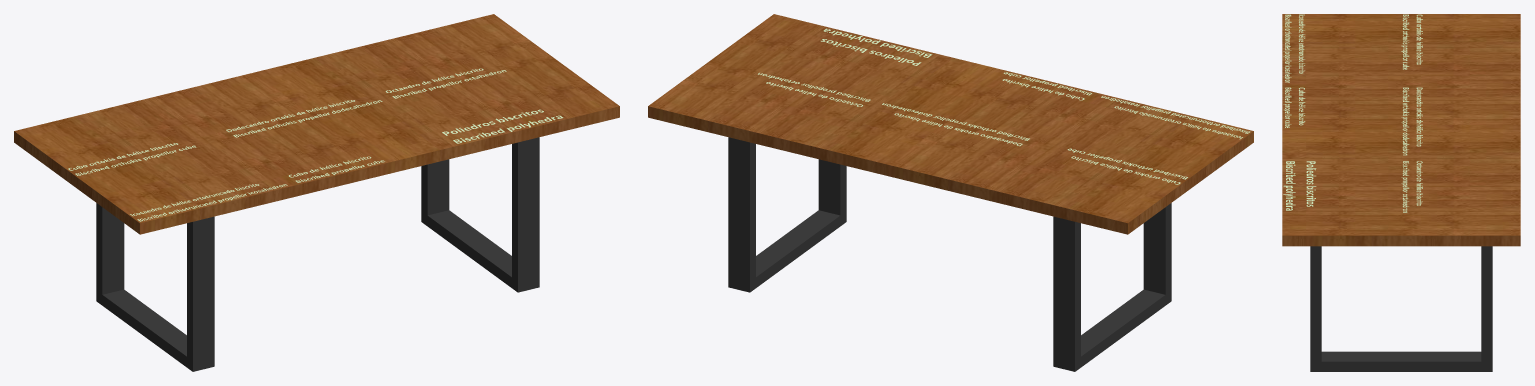
The model's file is biscribed3.glb.
The picture shows the model from 3 angles, left to right: view 1: azimuth 30°, elevation 25°; view 2: azimuth 150°, elevation 25°; view 3: azimuth 270°, elevation 25°; orthographic projection. The views are drawn at different scales.
Visible parts, largest first — view 1: object 1, Composant#1 (×2), Dodecaedro ortok, Icosaedro de hél, Poliedros biscri, Cubo ortokis de, Octaedro de héli; view 2: object 1, Composant#1 (×2), Icosaedro de hél, Dodecaedro ortok, Poliedros biscri, Cubo ortokis de, Octaedro de héli; view 3: object 1, Composant#1, Poliedros biscri, Icosaedro de hél, Dodecaedro ortok, Cubo ortokis de, Octaedro de héli, Cubo de hélice b.
Boxes of the visible parts, x1,y1,x2,y2 form: object 1: [14, 14, 619, 234]; Composant#1 (×2): [96, 137, 539, 371]; Dodecaedro ortok: [226, 100, 382, 137]; Icosaedro de hél: [130, 184, 287, 221]; Poliedros biscri: [442, 109, 563, 143]; Cubo ortokis de: [68, 143, 196, 175]; Octaedro de héli: [385, 68, 506, 98]; object 1: [648, 14, 1253, 234]; Composant#1 (×2): [728, 137, 1171, 371]; Icosaedro de hél: [1101, 96, 1250, 139]; Dodecaedro ortok: [882, 103, 1029, 146]; Poliedros biscri: [821, 28, 932, 65]; Cubo ortokis de: [1067, 148, 1187, 184]; Octaedro de héli: [758, 72, 870, 106]; object 1: [1282, 14, 1520, 246]; Composant#1: [1310, 246, 1492, 371]; Poliedros biscri: [1283, 161, 1316, 210]; Icosaedro de hél: [1283, 14, 1304, 82]; Dodecaedro ortok: [1401, 87, 1422, 155]; Cubo ortokis de: [1401, 14, 1422, 69]; Octaedro de héli: [1401, 161, 1422, 212]; Cubo de hélice b: [1283, 87, 1305, 127].
Bounding box in the file's own units: 2.2 × 0.7711 × 1.
Materials: 3 (1 with a texture image).
